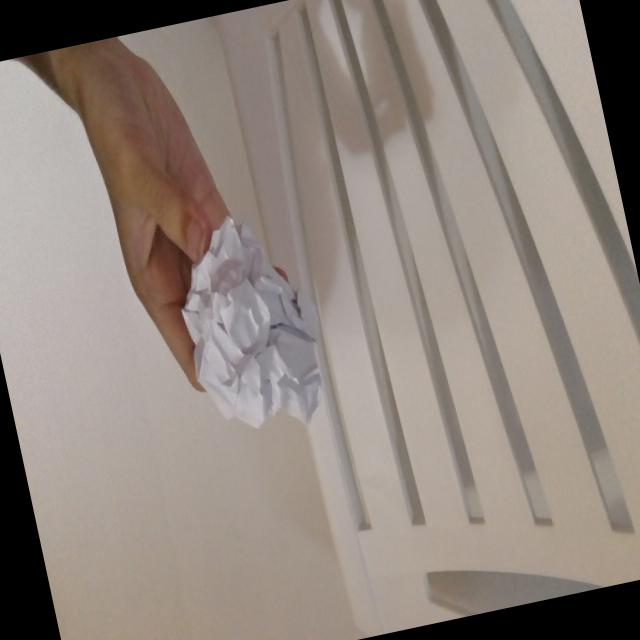crumpled_paper: (160, 194, 342, 451)
